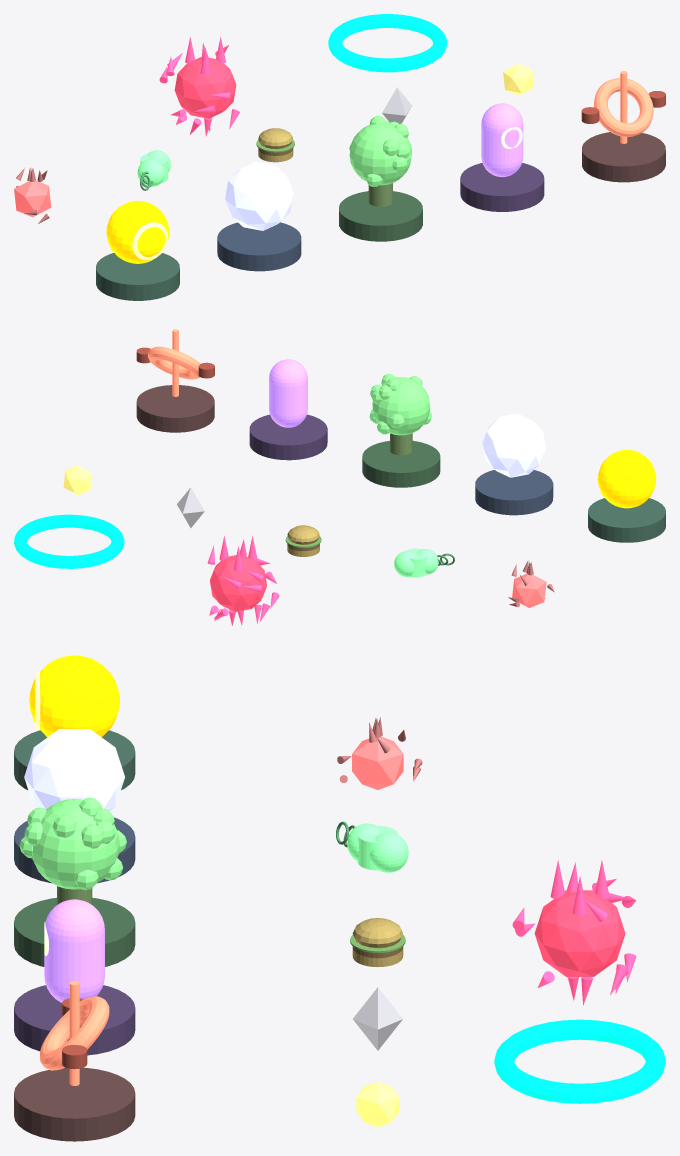
The picture shows the model from 3 angles, top to bottom: view 1: azimuth 30°, elevation 25°; view 2: azimuth 150°, elevation 25°; view 3: azimuth 270°, elevation 25°; orthographic projection. The views are drawn at different scales.
Parts seen in each view (by area): view 1: TowerBroccoli, TowerWhiteCell, TowerExercise, TowerVitaminC, TowerSleep, EnemyBossVirus, Portal, EnemyVirus, EnemyJunkFood, EnemyBacteria, EnemyAllergen, EnemyStress; view 2: TowerBroccoli, TowerWhiteCell, TowerVitaminC, TowerSleep, TowerExercise, EnemyBossVirus, Portal, EnemyBacteria, EnemyVirus, EnemyJunkFood, EnemyAllergen, EnemyStress; view 3: TowerBroccoli, TowerExercise, TowerSleep, EnemyBossVirus, TowerWhiteCell, TowerVitaminC, Portal, EnemyVirus, EnemyBacteria, EnemyJunkFood, EnemyStress, EnemyAllergen.
Boxes of the visible parts, left/top/right/bottom form: TowerBroccoli: left=339, top=115, right=422, bottom=241; TowerWhiteCell: left=217, top=161, right=301, bottom=271; TowerExercise: left=581, top=71, right=665, bottom=182; TowerVitaminC: left=96, top=201, right=179, bottom=300; TowerSleep: left=460, top=103, right=544, bottom=211; EnemyBossVirus: left=159, top=37, right=239, bottom=136; Portal: left=328, top=14, right=447, bottom=72; EnemyVirus: left=14, top=167, right=51, bottom=223; EnemyJunkFood: left=256, top=128, right=294, bottom=162; EnemyBacteria: left=137, top=150, right=170, bottom=190; EnemyAllergen: left=503, top=64, right=534, bottom=95; EnemyStress: left=382, top=87, right=412, bottom=123; TowerBroccoli: left=362, top=373, right=440, bottom=487; TowerWhiteCell: left=475, top=413, right=553, bottom=515; TowerVitaminC: left=588, top=450, right=665, bottom=542; TowerSleep: left=249, top=359, right=327, bottom=460; TowerExercise: left=136, top=329, right=214, bottom=432; EnemyBossVirus: left=207, top=536, right=279, bottom=625; Portal: left=14, top=514, right=124, bottom=568; EnemyBacteria: left=394, top=548, right=454, bottom=577; EnemyVirus: left=508, top=560, right=554, bottom=607; EnemyJunkFood: left=285, top=525, right=321, bottom=556; EnemyAllergen: left=63, top=465, right=92, bottom=494; EnemyStress: left=177, top=487, right=204, bottom=528; TowerBroccoli: left=14, top=797, right=135, bottom=966; TowerExercise: left=14, top=981, right=135, bottom=1141; TowerSleep: left=14, top=899, right=135, bottom=1055; EnemyBossVirus: left=512, top=860, right=636, bottom=1005; TowerWhiteCell: left=14, top=729, right=135, bottom=883; TowerVitaminC: left=14, top=655, right=135, bottom=790; Portal: left=494, top=1019, right=665, bottom=1103; EnemyVirus: left=337, top=717, right=422, bottom=789; EnemyBacteria: left=336, top=821, right=408, bottom=872; EnemyJunkFood: left=350, top=918, right=405, bottom=966; EnemyStress: left=353, top=987, right=402, bottom=1050; EnemyAllergen: left=356, top=1081, right=399, bottom=1127.
Bounding box in the file's own units: 18.55 × 4.49 × 12.9.
